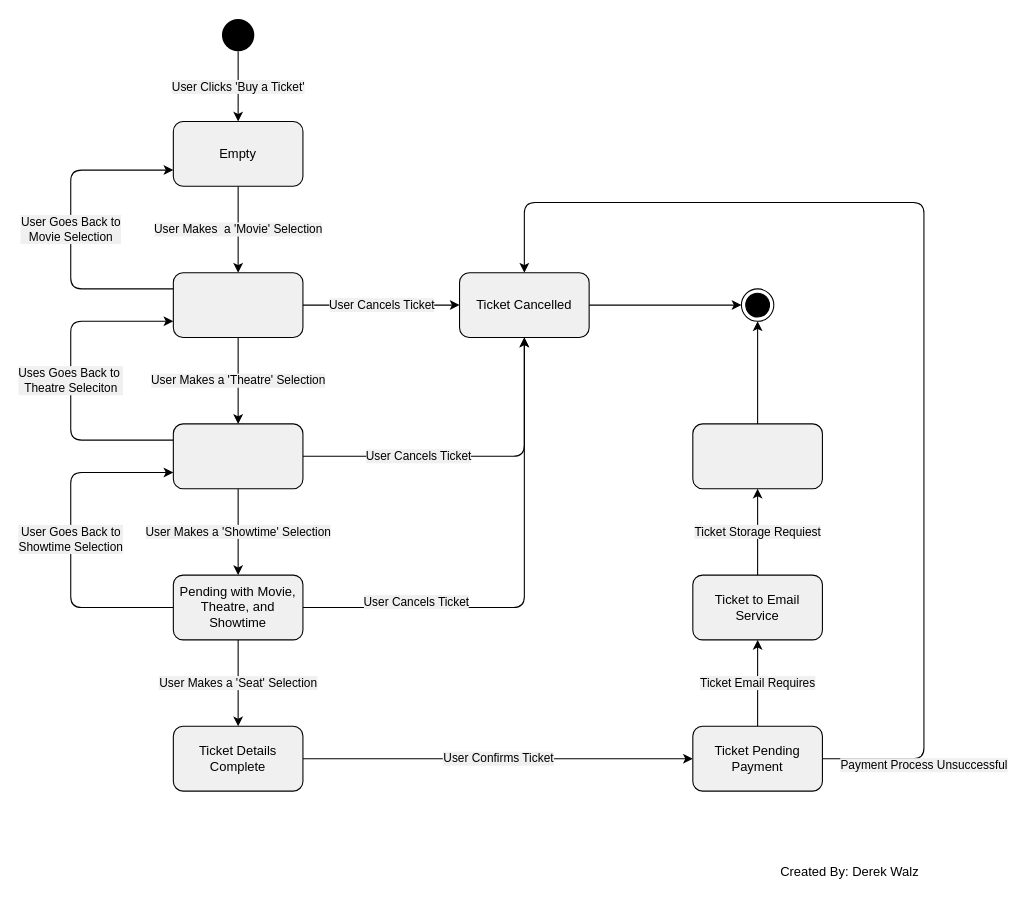
Image size: 1026x901. Some labels were removed from this diagram. The centre of each missing label's shape, as x and y in pixels:
"Pending with Movie" goes at (237,305).
"Pending with Movie and Theatre" goes at (237,456).
"Ticket Saved to Database" goes at (757,456).
